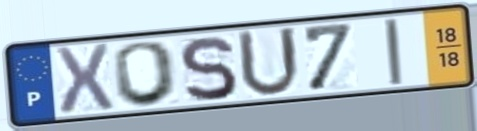7: (300, 22, 358, 95)
I: (380, 15, 406, 88)
O: (111, 38, 181, 109)
S: (176, 34, 240, 105)
U: (234, 24, 304, 100)
X: (51, 41, 118, 118)
